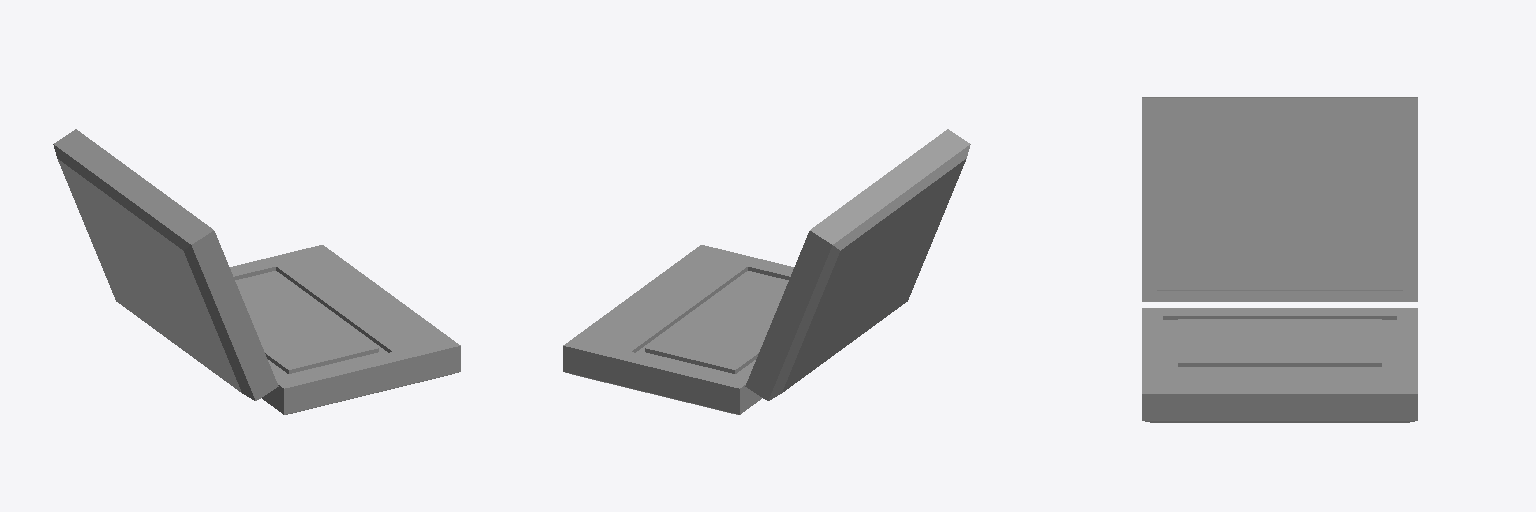
File: laptop.obj
The picture shows the model from 3 angles: view 1: azimuth 30°, elevation 25°; view 2: azimuth 150°, elevation 25°; view 3: azimuth 270°, elevation 25°; orthographic projection.
Parts seen in each view (by area): view 1: Laptop_Cube; view 2: Laptop_Cube; view 3: Laptop_Cube.
Part boxes in pixels (x1,y1,x2,y2): Laptop_Cube: (53, 129, 460, 414); Laptop_Cube: (563, 129, 970, 414); Laptop_Cube: (1142, 97, 1417, 422).
Size of the model in its own units: 2.27 by 1.65 by 2.